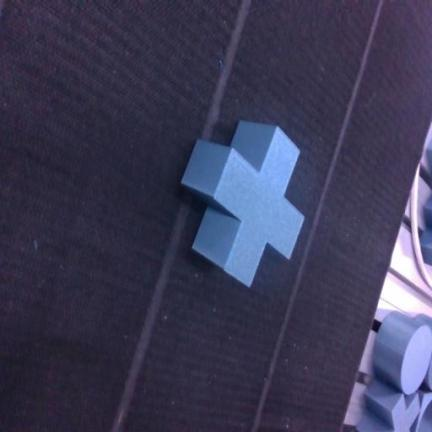cross: (182, 122, 303, 286)
